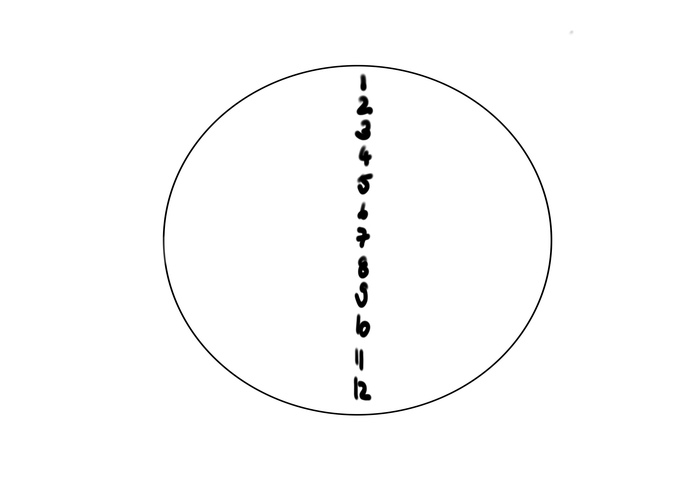eight: (353, 254, 372, 280)
eleven: (351, 343, 370, 370)
five: (353, 168, 378, 198)
four: (352, 145, 376, 167)
nine: (354, 278, 374, 309)
one: (356, 71, 373, 93)
seven: (353, 227, 373, 249)
six: (355, 202, 373, 223)
ten: (353, 310, 373, 337)
three: (351, 117, 376, 140)
twelve: (348, 374, 375, 406)
two: (356, 89, 373, 117)
